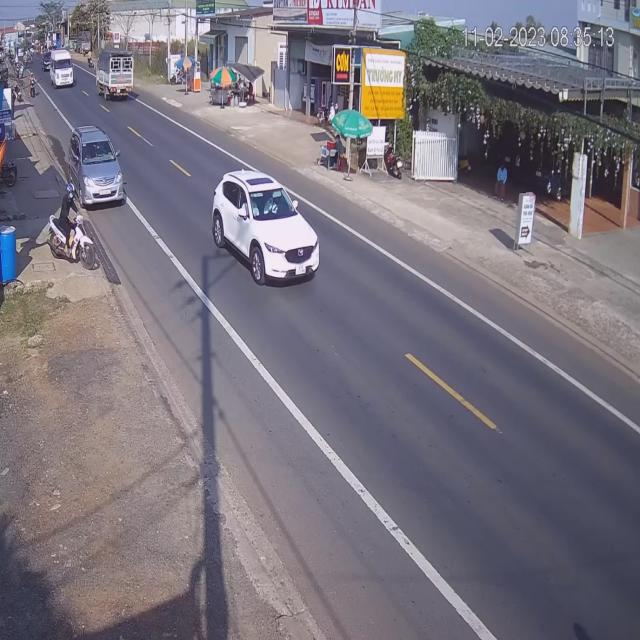bus: (52, 52, 75, 90)
car: (210, 168, 315, 286), (68, 128, 126, 211)
truck: (95, 48, 134, 102)
